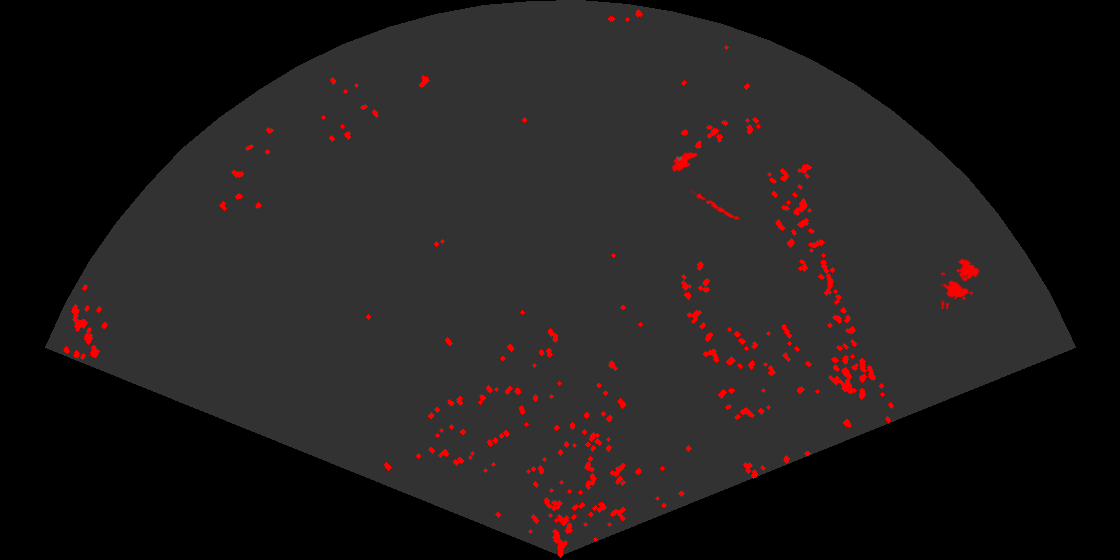AUV: (669, 150, 699, 173)
cage: (941, 257, 981, 309)
chain: (690, 188, 741, 222)
